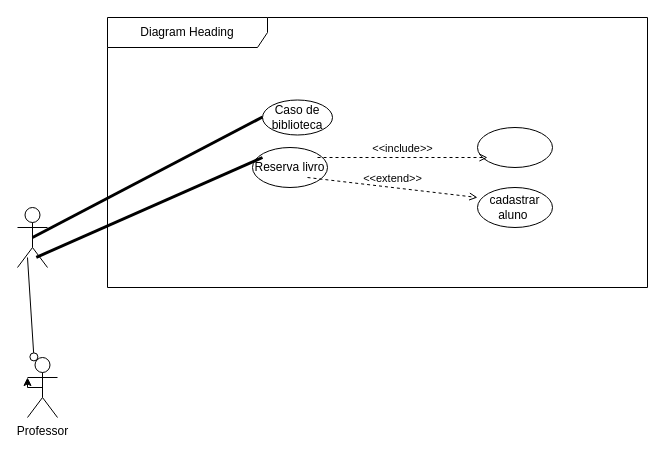
The diagram is 665 pixels wide and 456 high, and some of its shapes have lost their labels. The centre of each missing label's shape, as x and y in pixels:
"aluno" goes at [32,237].
"emjitir comprovante" goes at [514,147].
